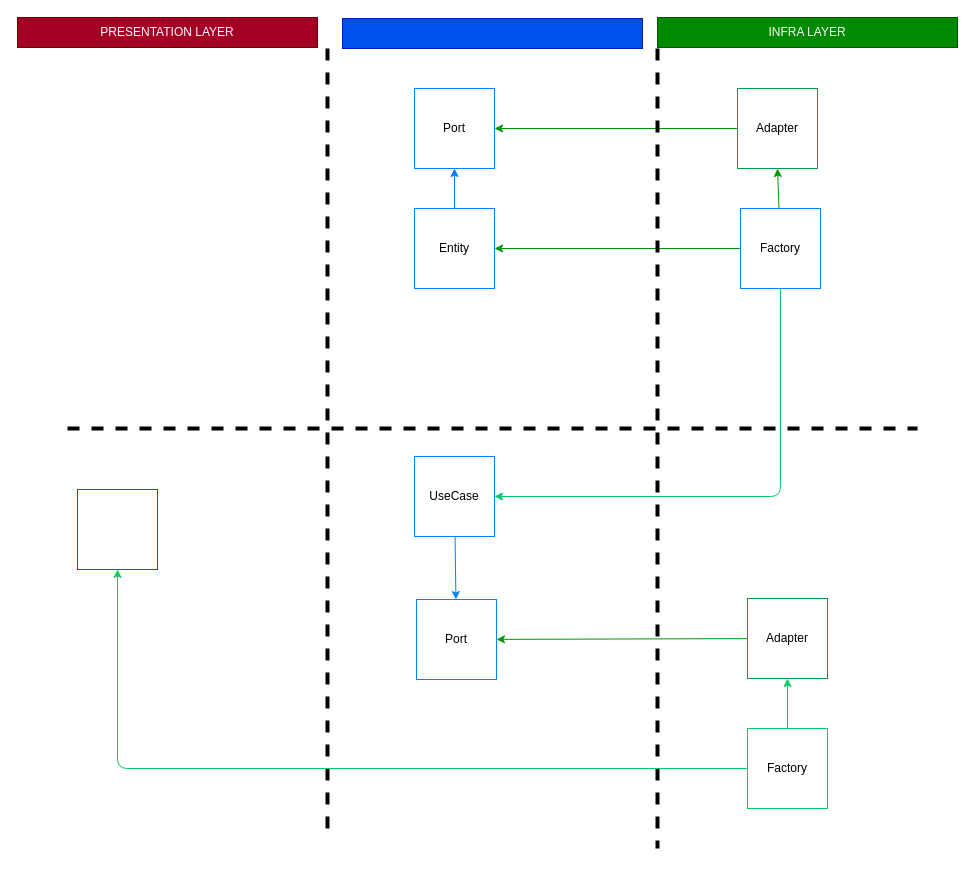
Some shapes in this 975 by 869 pixel diagram are drawn without their labels. The shapes that lost their labels are listed below. From the top down, each one's centre as x and y in pixels, then its label:
pixel 492 33: DOMAIN LAYER
pixel 117 529: Controller
